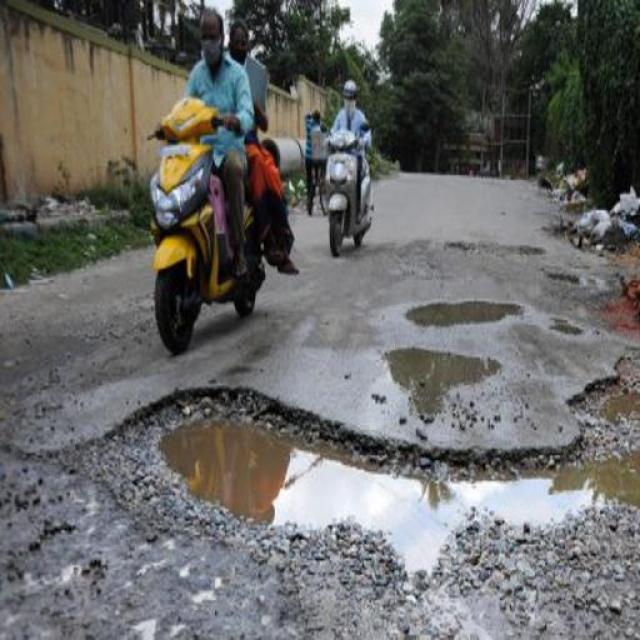puddle: (188, 422, 638, 558), (394, 352, 501, 403), (417, 307, 517, 333)
